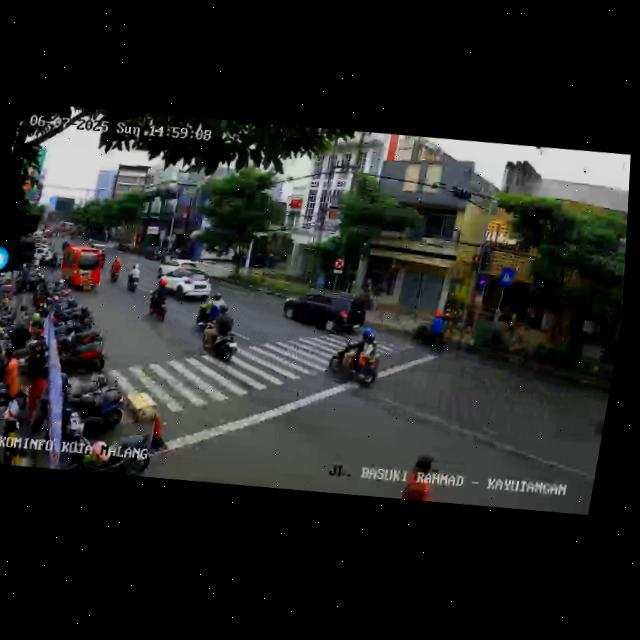car: (280, 282, 370, 341), (55, 242, 107, 295), (153, 262, 214, 303)
motorcycle: (322, 326, 387, 393), (197, 303, 246, 364), (408, 308, 453, 357), (143, 278, 174, 325), (194, 290, 228, 331), (123, 260, 143, 297), (107, 256, 123, 284)
person: (401, 450, 438, 502)
